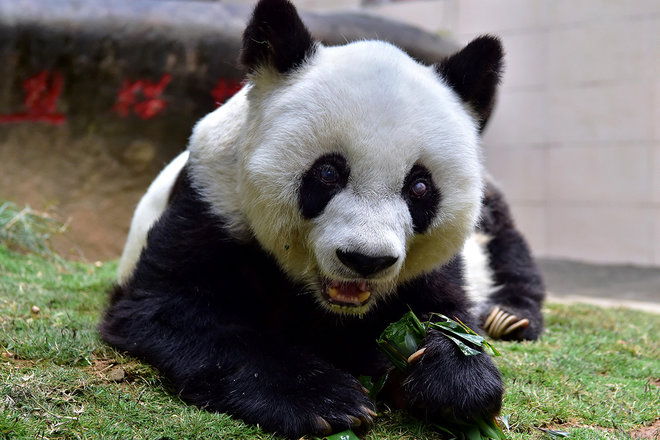panda: (134, 26, 534, 439)
